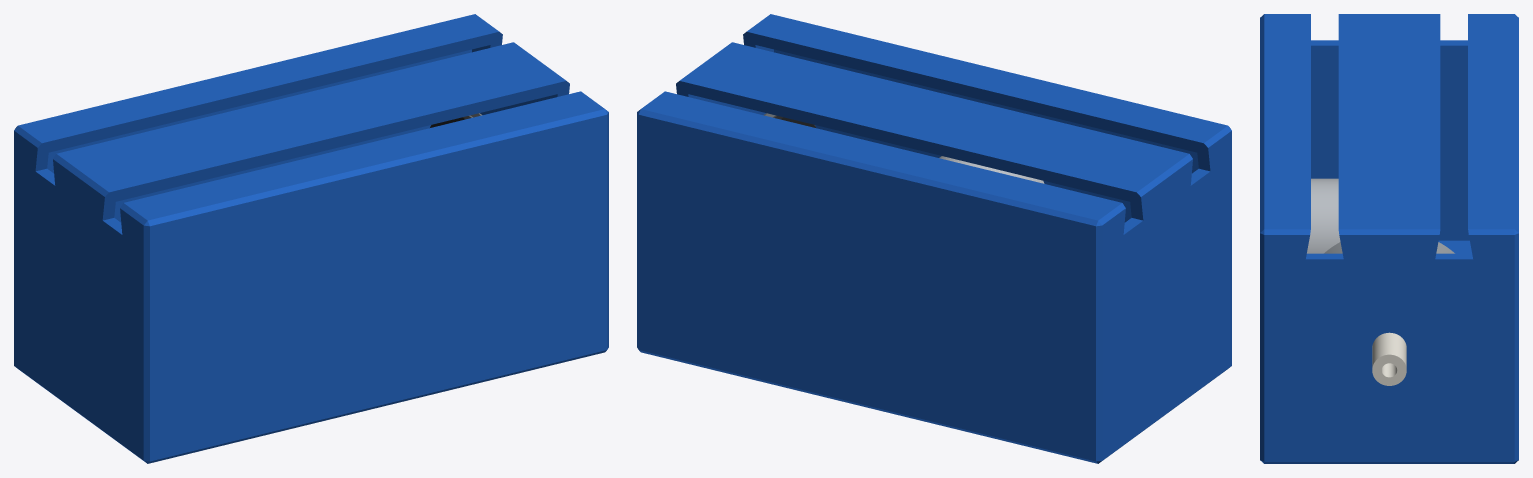
The model's file is compressor.glb.
3 renders of one model, left to right at view 1: azimuth 30°, elevation 25°; view 2: azimuth 150°, elevation 25°; view 3: azimuth 270°, elevation 25°, orthographic. The views are drawn at different scales.
Visible parts, largest first — view 1: housing; view 2: housing; view 3: housing, motor, outlet_nipple.
Part boxes in pixels (<box>): housing: <box>14,14,608,463</box>; housing: <box>637,14,1231,463</box>; housing: <box>1260,14,1518,463</box>; motor: <box>1307,178,1340,253</box>; outlet_nipple: <box>1372,332,1406,385</box>.
Size of the model in its own units: 0.066 by 0.03 by 0.03.
